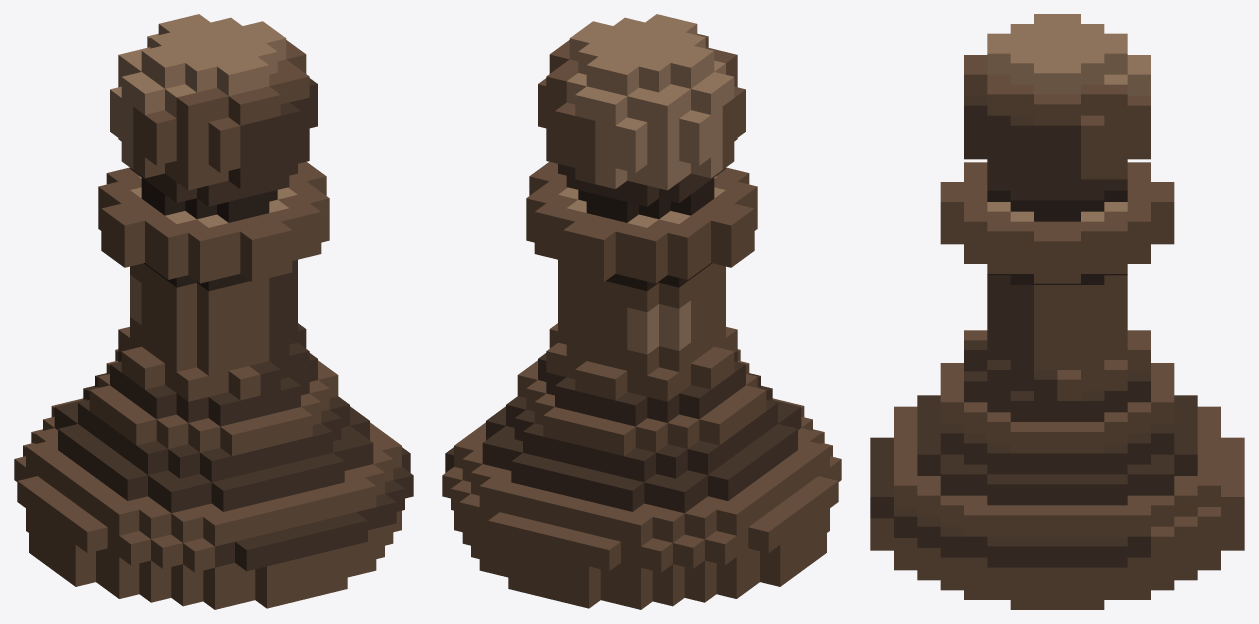
Rendered from pawn_black.obj.
3 renders of one model, left to right at view 1: azimuth 30°, elevation 25°; view 2: azimuth 150°, elevation 25°; view 3: azimuth 270°, elevation 25°, orthographic.
Parts seen in each view (by area): view 1: pawn_black; view 2: pawn_black; view 3: pawn_black.
Boxes of the visible parts, <box> form: pawn_black: <box>14,14,413,609</box>; pawn_black: <box>442,14,841,609</box>; pawn_black: <box>870,14,1244,609</box>.
Bounding box in the file's own units: 0.336 × 0.483 × 0.336.
Materials: 1 (1 with a texture image).
